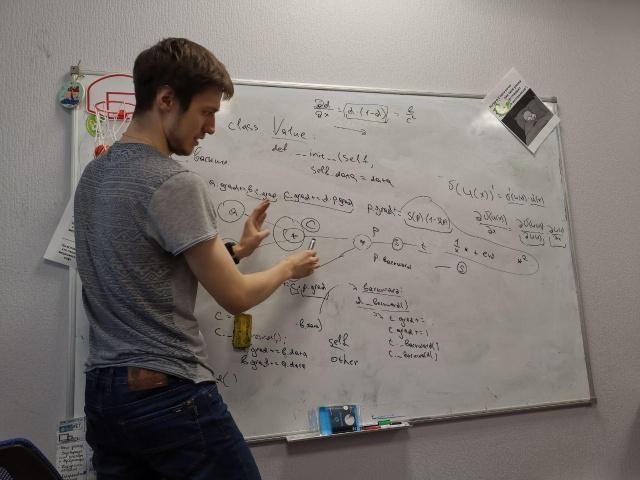Whiteboard: (190, 75, 598, 449)
